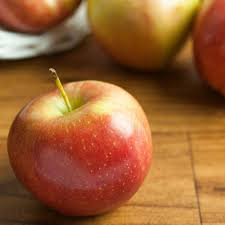apple: (10, 82, 155, 218), (86, 2, 188, 72)
